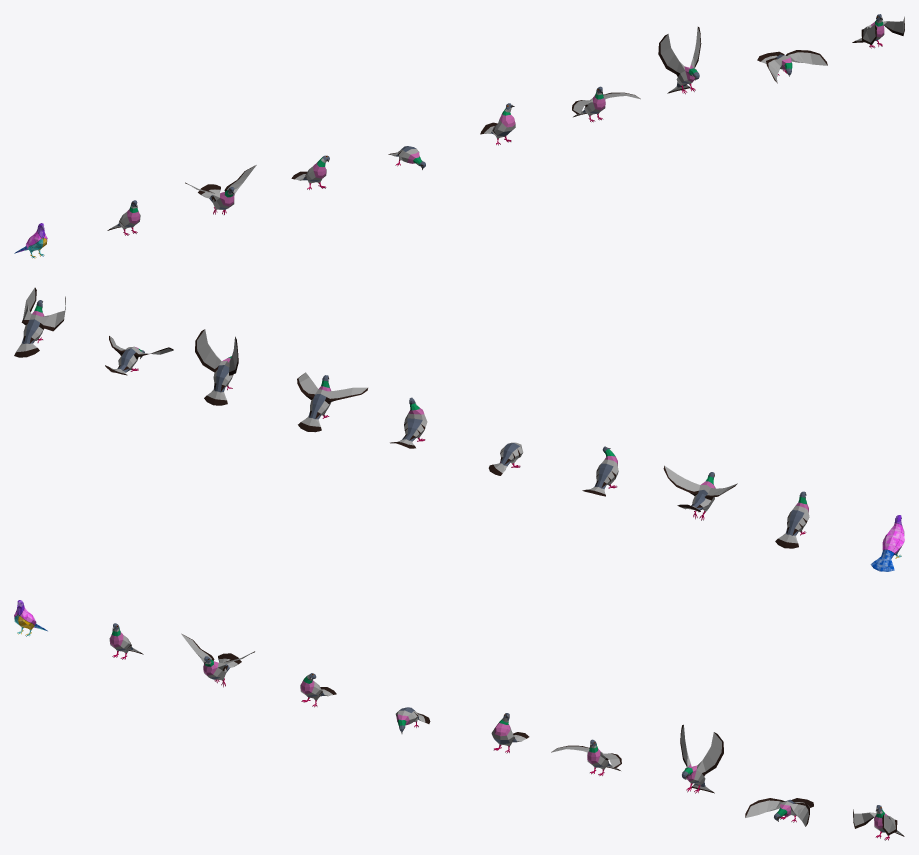
The model's file is asset.glb.
3 renders of one model, top to bottom at view 1: azimuth 30°, elevation 25°; view 2: azimuth 150°, elevation 25°; view 3: azimuth 330°, elevation 25°, orthographic. The views are drawn at different scales.
Parts seen in each view (by area): view 1: Pigeon.005_4, Pigeon.006_5, Pigeon.004_3, Pigeon.007_6, Pigeon.003_1, Pigeon.009_8, Pigeon.002_2; view 2: Pigeon.003_1, Pigeon.005_4, Pigeon.007_6, Pigeon.004_3, Pigeon.010_9, Pigeon.001_0, Pigeon.009_8, Pigeon.002_2, Pigeon.006_5, Pigeon.008_7; view 3: Pigeon.005_4, Pigeon.006_5, Pigeon.004_3, Pigeon.003_1, Pigeon.007_6, Pigeon.009_8, Pigeon.002_2, Pigeon.010_9.
Part boxes in pixels (x1,y1,x2,y2): Pigeon.005_4: [658, 27, 701, 94]; Pigeon.006_5: [757, 50, 827, 83]; Pigeon.004_3: [185, 165, 256, 214]; Pigeon.007_6: [852, 14, 904, 48]; Pigeon.003_1: [572, 86, 640, 122]; Pigeon.009_8: [480, 103, 515, 145]; Pigeon.002_2: [291, 155, 329, 189]; Pigeon.003_1: [297, 372, 367, 432]; Pigeon.005_4: [195, 329, 238, 405]; Pigeon.007_6: [14, 287, 65, 357]; Pigeon.004_3: [663, 465, 737, 520]; Pigeon.010_9: [870, 515, 904, 571]; Pigeon.001_0: [775, 491, 809, 548]; Pigeon.009_8: [390, 397, 427, 448]; Pigeon.002_2: [582, 446, 618, 496]; Pigeon.006_5: [105, 336, 173, 375]; Pigeon.008_7: [488, 442, 523, 475]; Pigeon.005_4: [680, 724, 723, 793]; Pigeon.006_5: [745, 798, 813, 826]; Pigeon.004_3: [181, 633, 254, 687]; Pigeon.003_1: [551, 739, 621, 775]; Pigeon.007_6: [853, 805, 904, 840]; Pigeon.009_8: [491, 713, 529, 753]; Pigeon.002_2: [300, 673, 336, 707]; Pigeon.010_9: [14, 600, 47, 636].
Size of the model in its own units: 9.32 by 0.7304 by 0.6574.
Materials: 10 (1 with a texture image).
